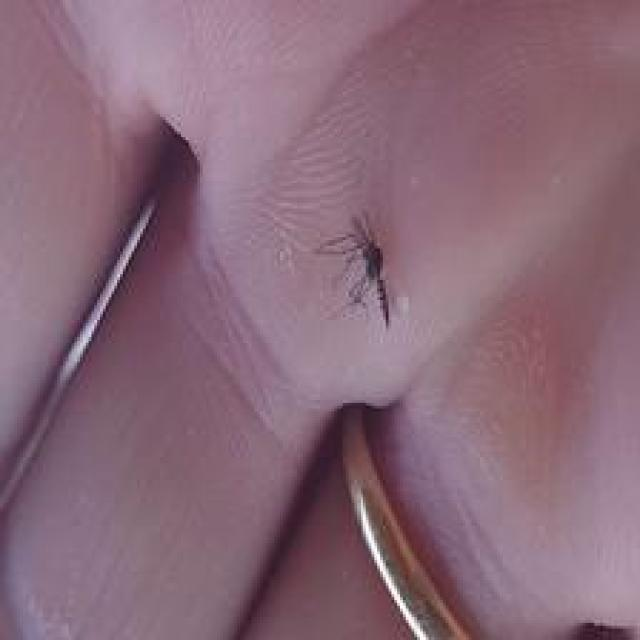Aedes albopictus: (316, 210, 396, 330)
